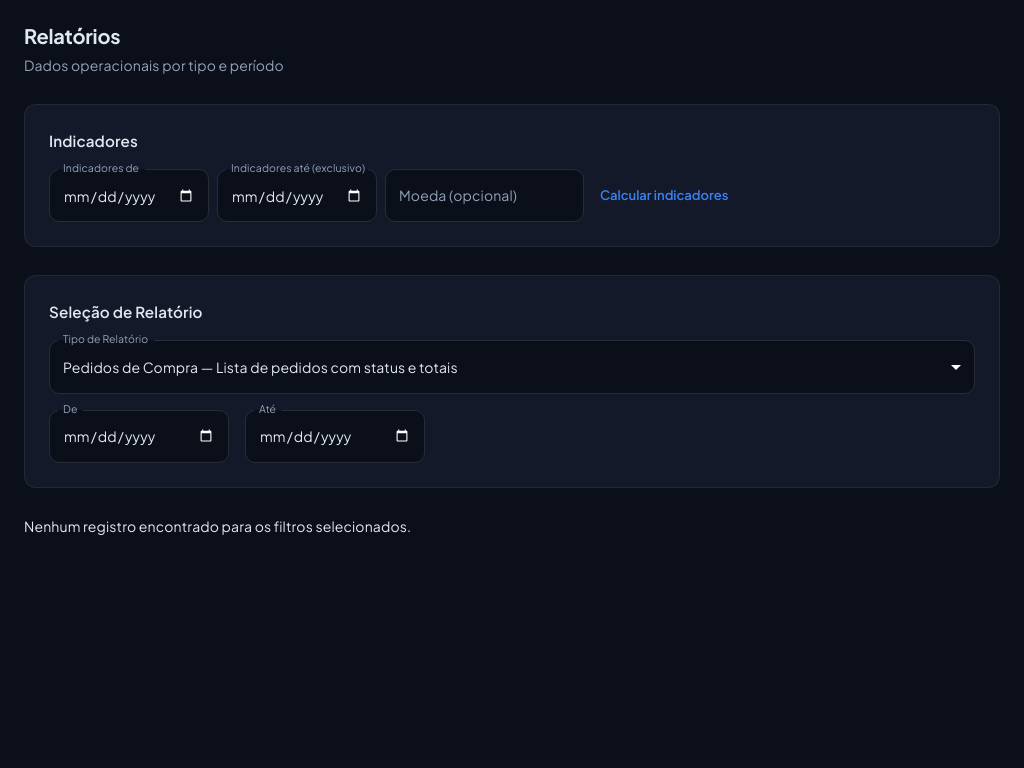
Indicadores B18 › calcular outra vez com os mesmos filtros busca resultados novos
Click the button "Calcular indicadores". click: (664, 196)
box: [592, 169, 736, 222]
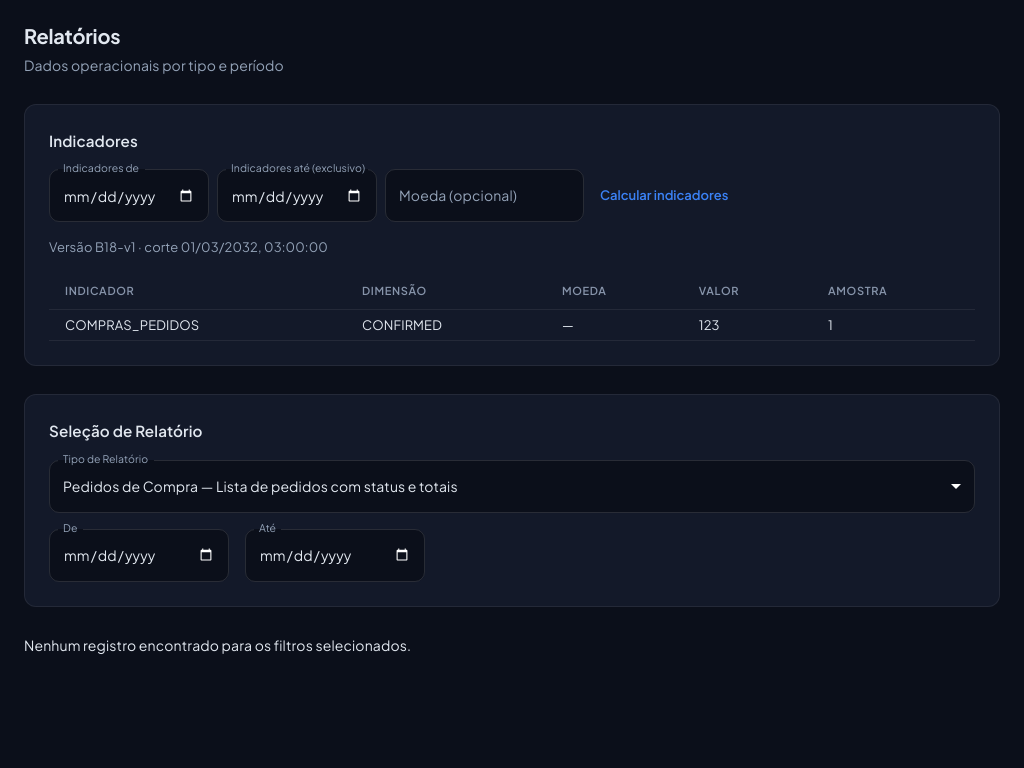
Expected: the text "123" is shown, [683, 309, 812, 341]
Click the button "Calcular indicadores". click: (664, 196)
box: [592, 169, 736, 222]
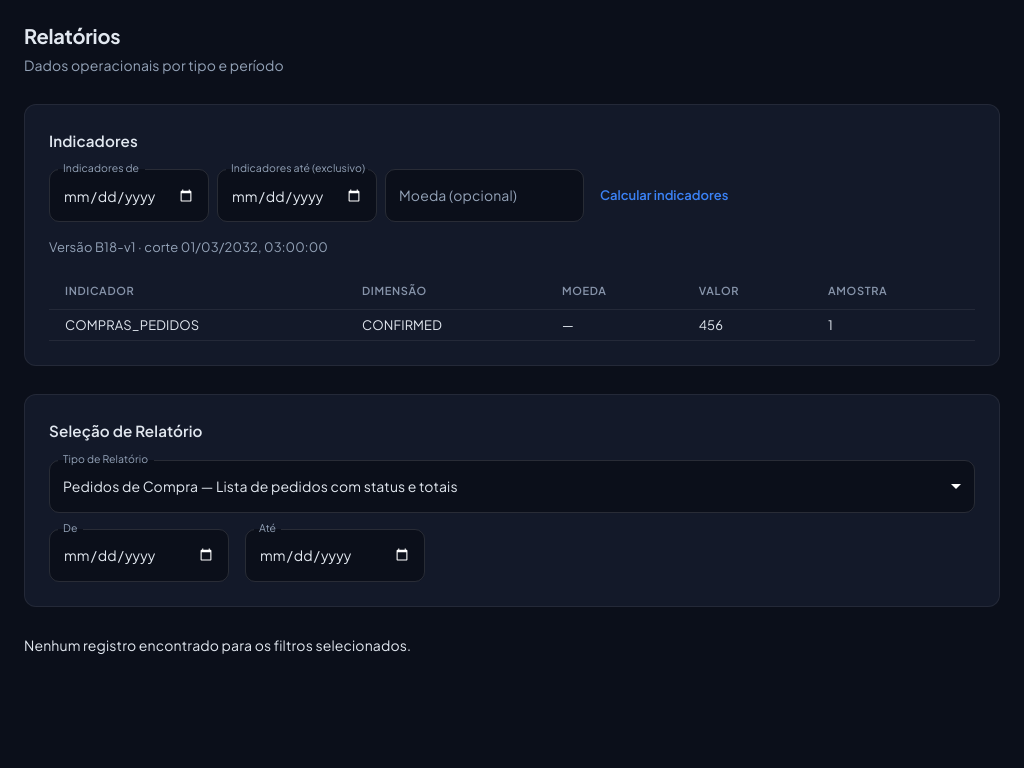
Expected: the text "456" is shown, [683, 309, 812, 341]
